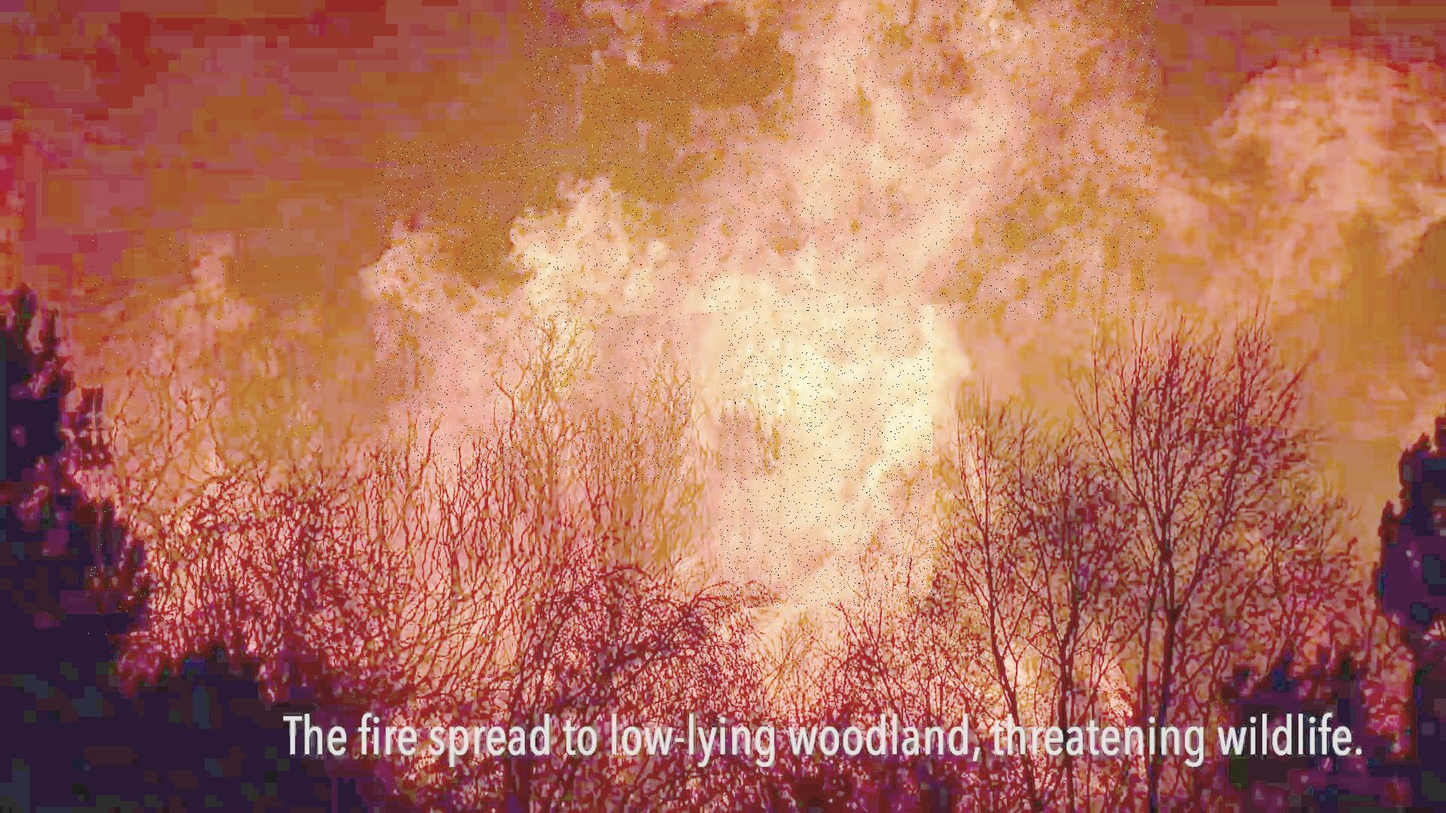fire: (524, 0, 1158, 320), (375, 142, 691, 483), (85, 228, 323, 635), (720, 251, 934, 608)
